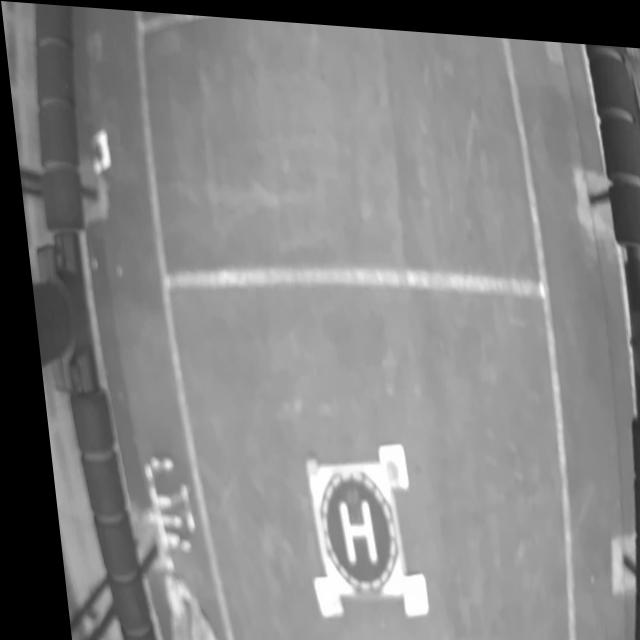Helipad: (326, 493, 365, 558)
